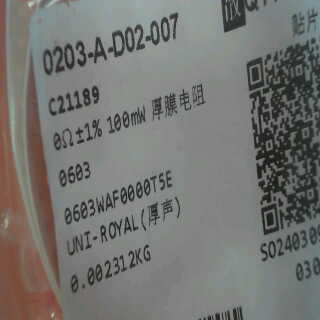0R: (52, 117, 105, 185)
